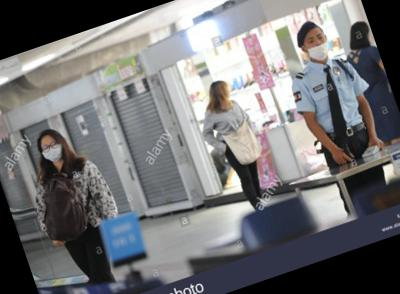mask_weared_incorrect: (301, 30, 334, 66)
with_mask: (39, 138, 69, 167)
